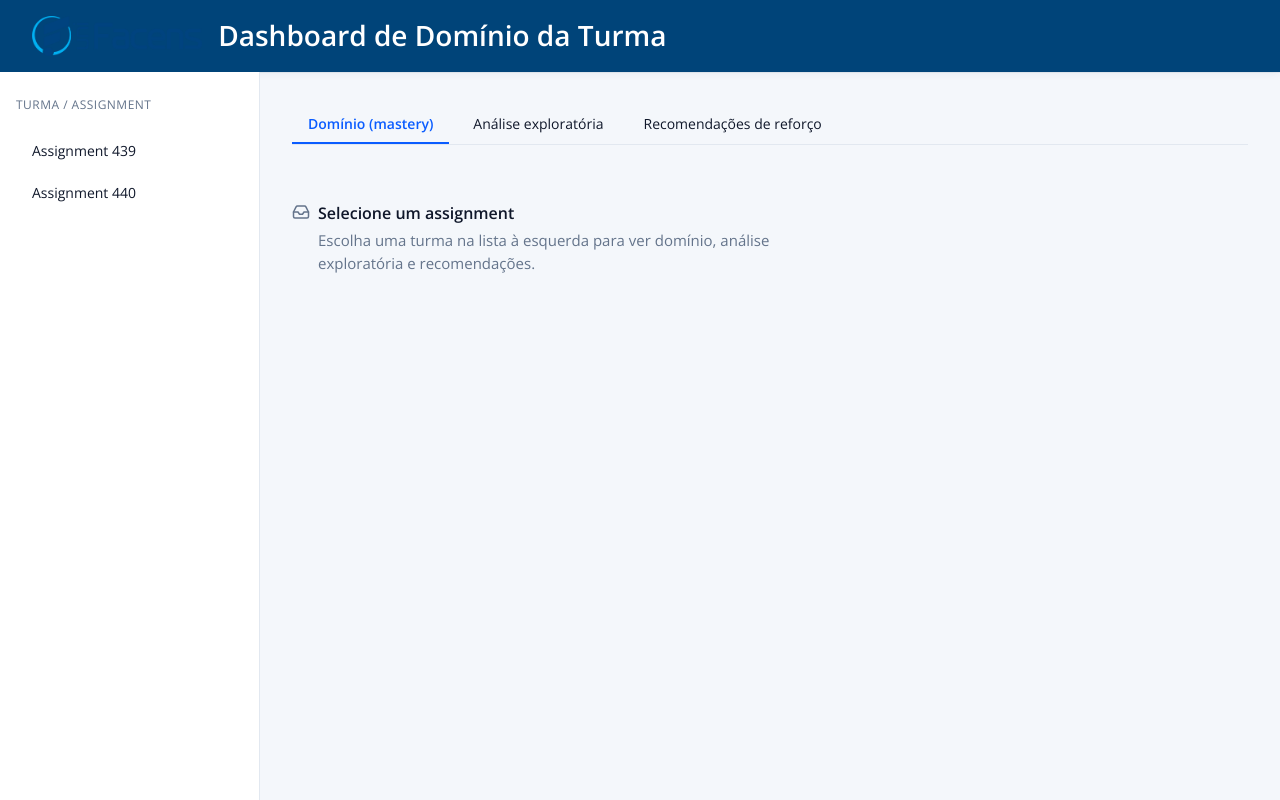
Test case: App shell › switches to the Recomendações tab and shows the verbatim pt-BR text
The image size is (1280, 800).
Click the button "Assignment 439".
click(130, 150)  # box [16,130,243,170]
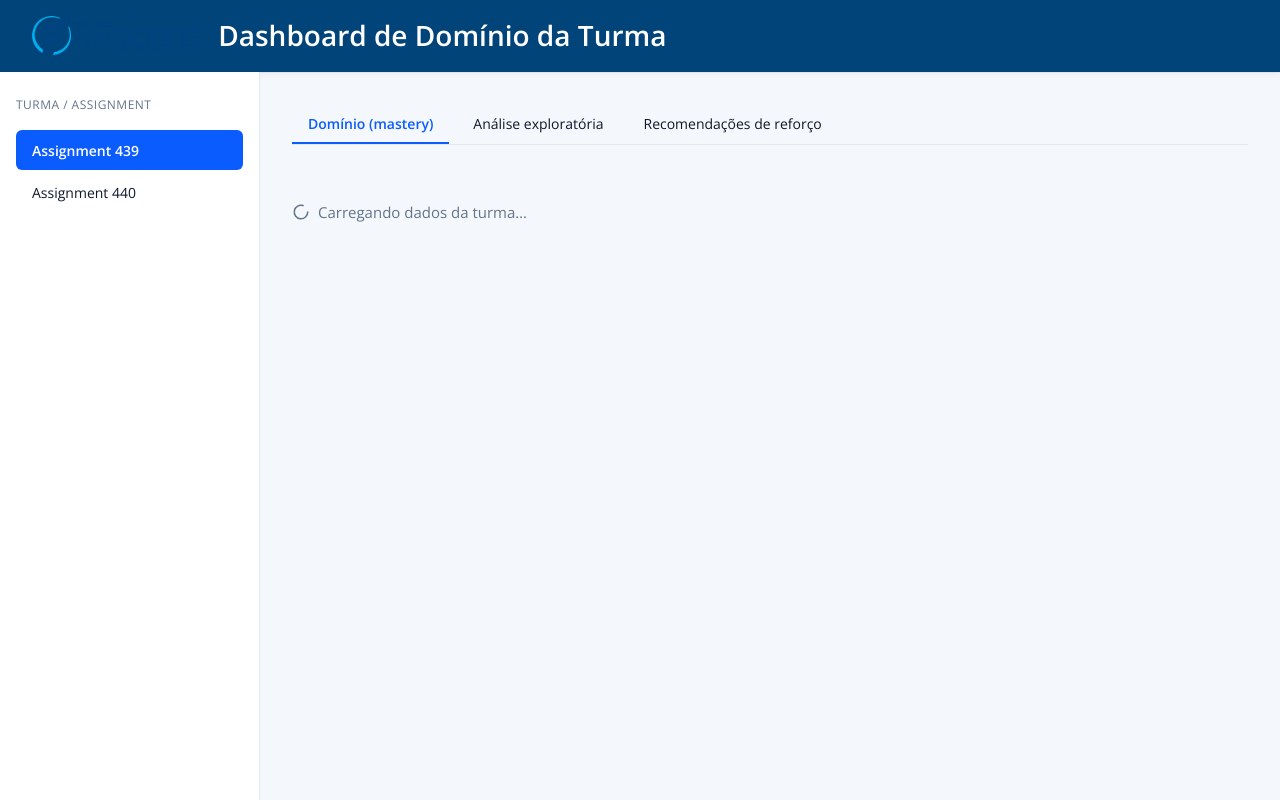
Click the tab "Recomendações de reforço".
click(733, 124)  # box [628,104,838,144]
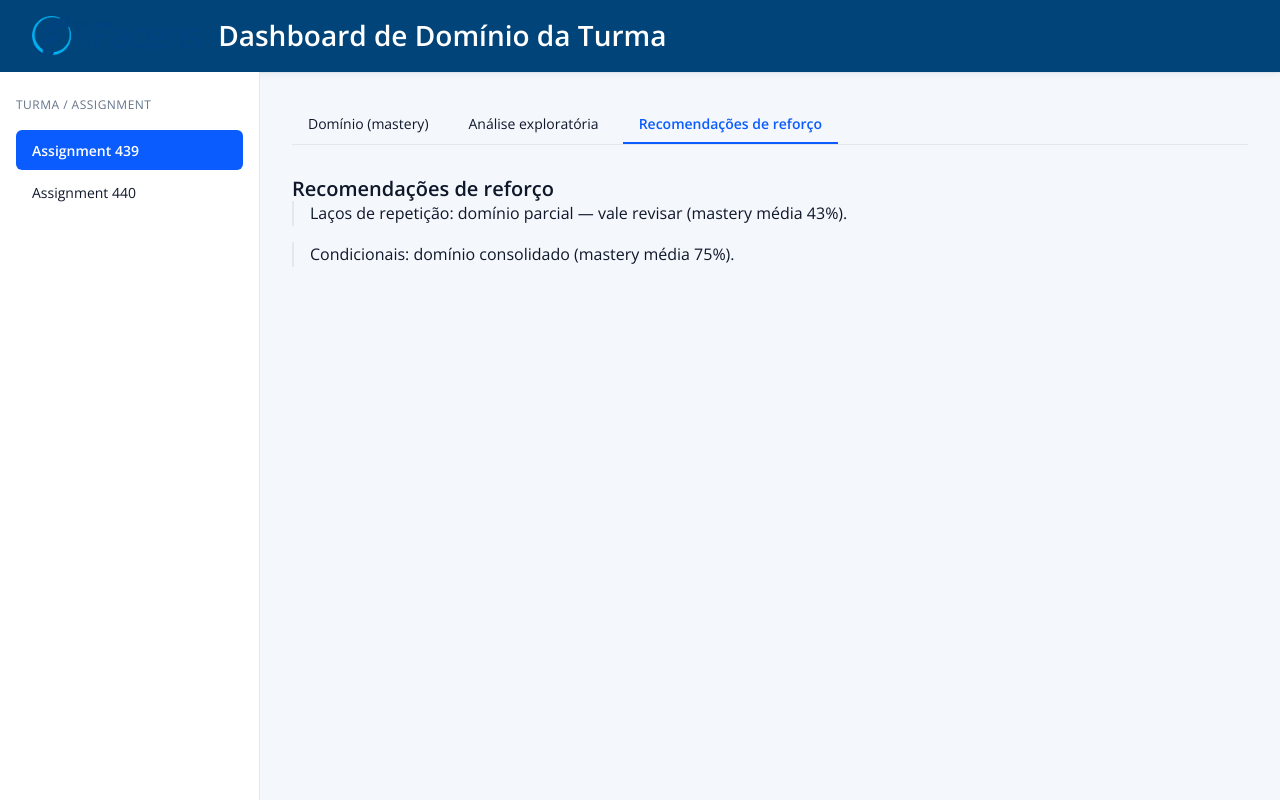
Check: the list item "Laços de repetição: domínio parcial — vale revisar (mastery média 43%)." is shown, box [292,201,1248,226]
